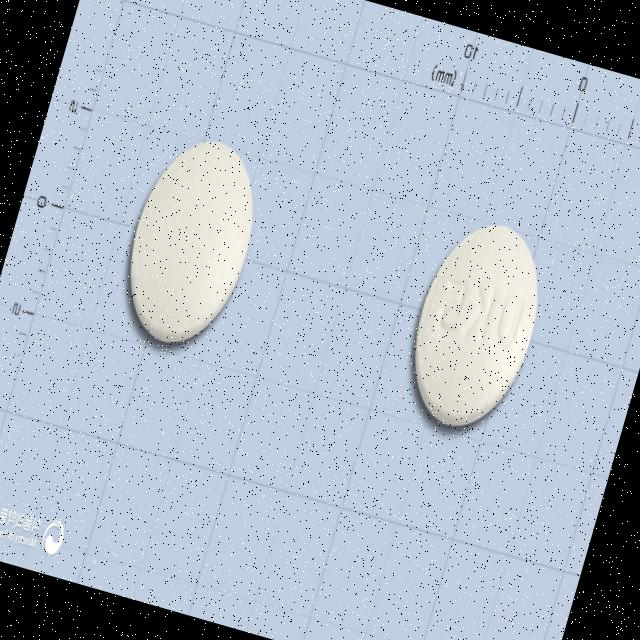Uniciprosacin Tab: (391, 206, 559, 442), (106, 124, 274, 359)
